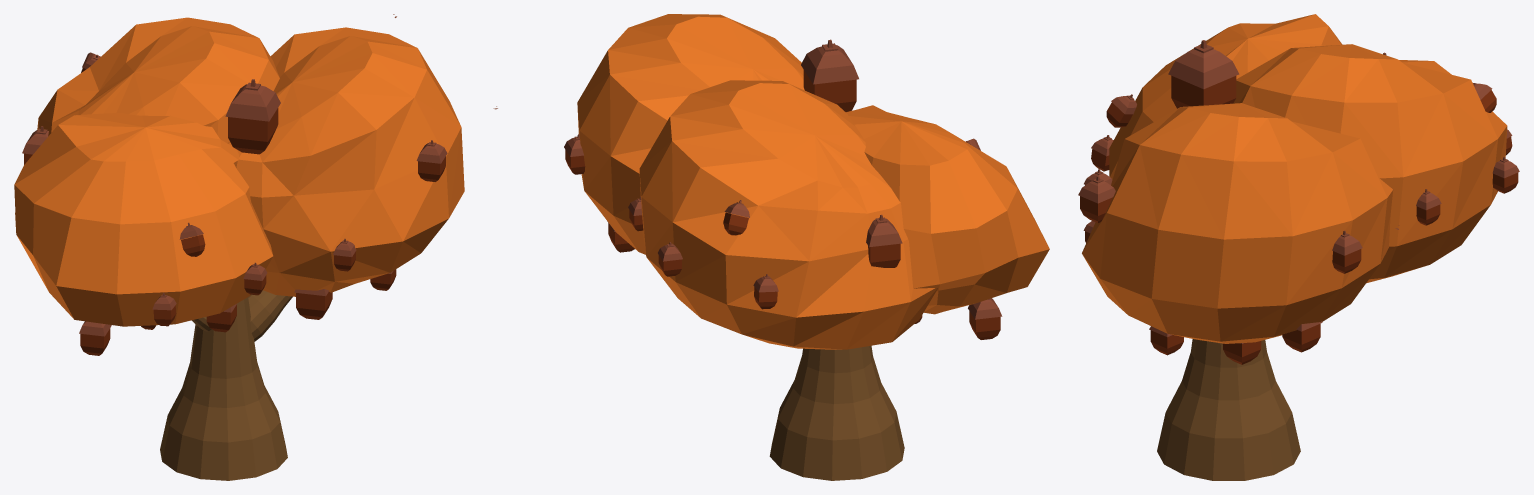
File: dotoli_tree3.fbx
3 views of the same model, side by side, from view 1: azimuth 30°, elevation 25°; view 2: azimuth 150°, elevation 25°; view 3: azimuth 270°, elevation 25° (orthographic). The views are drawn at different scales.
Visible parts, largest first — view 1: Sphere.016, Sphere.017, Sphere.018, Cylinder.002, 도토리몸통.010, 도토리몸통.006, 도토리몸통.009, 도토리몸통.011; view 2: Sphere.018, Sphere.017, Sphere.016, Cylinder.002, 도토리몸통.011, 도토리몸통.006, 도토리몸통.010; view 3: Sphere.016, Sphere.018, Cylinder.002, Sphere.017, 도토리몸통.011, 도토리몸통.006, 도토리몸통.010, 도토리몸통.009.
Part boxes in pixels (bbox=[...]): Sphere.016: bbox=[227, 27, 464, 296]; Sphere.017: bbox=[14, 113, 273, 326]; Sphere.018: bbox=[37, 17, 279, 142]; Cylinder.002: bbox=[160, 290, 292, 480]; 도토리몸통.010: bbox=[79, 222, 396, 355]; 도토리몸통.006: bbox=[225, 79, 280, 154]; 도토리몸통.009: bbox=[416, 140, 447, 181]; 도토리몸통.011: bbox=[22, 14, 396, 164]; Sphere.018: bbox=[639, 80, 937, 349]; Sphere.017: bbox=[846, 105, 1049, 314]; Sphere.016: bbox=[577, 14, 804, 254]; Cylinder.002: bbox=[769, 345, 904, 480]; 도토리몸통.011: bbox=[493, 106, 902, 309]; 도토리몸통.006: bbox=[801, 39, 858, 111]; 도토리몸통.010: bbox=[915, 138, 1002, 339]; Sphere.016: bbox=[1082, 103, 1393, 343]; Sphere.018: bbox=[1233, 44, 1507, 283]; Cylinder.002: bbox=[1157, 339, 1300, 480]; Sphere.017: bbox=[1109, 14, 1342, 179]; 도토리몸통.011: bbox=[1282, 52, 1519, 352]; 도토리몸통.006: bbox=[1168, 40, 1239, 108]; 도토리몸통.010: bbox=[1083, 94, 1261, 364]; 도토리몸통.009: bbox=[1078, 176, 1115, 222].
Size of the model in its own units: 1908 by 1585 by 1510.
